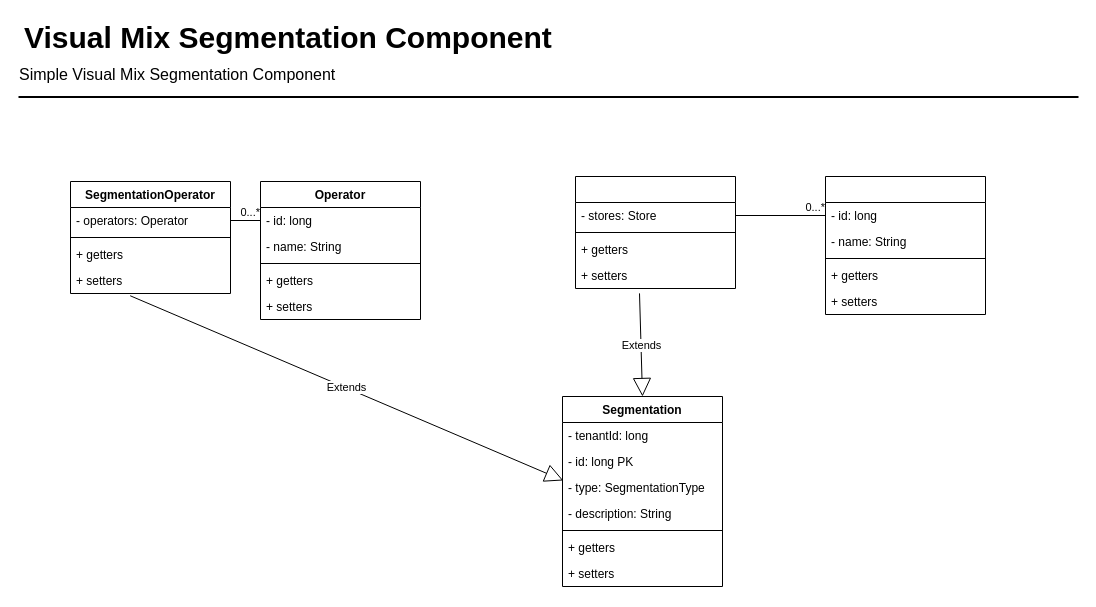
This 1096x607 diagram has some shape labels left out. The shapes that lost their labels are listed below. From the top down, each one's box as (x1, y1, x2, y2) in pixels, then its label:
(574, 176, 736, 288): SegmentationStore
(824, 176, 986, 314): Store
